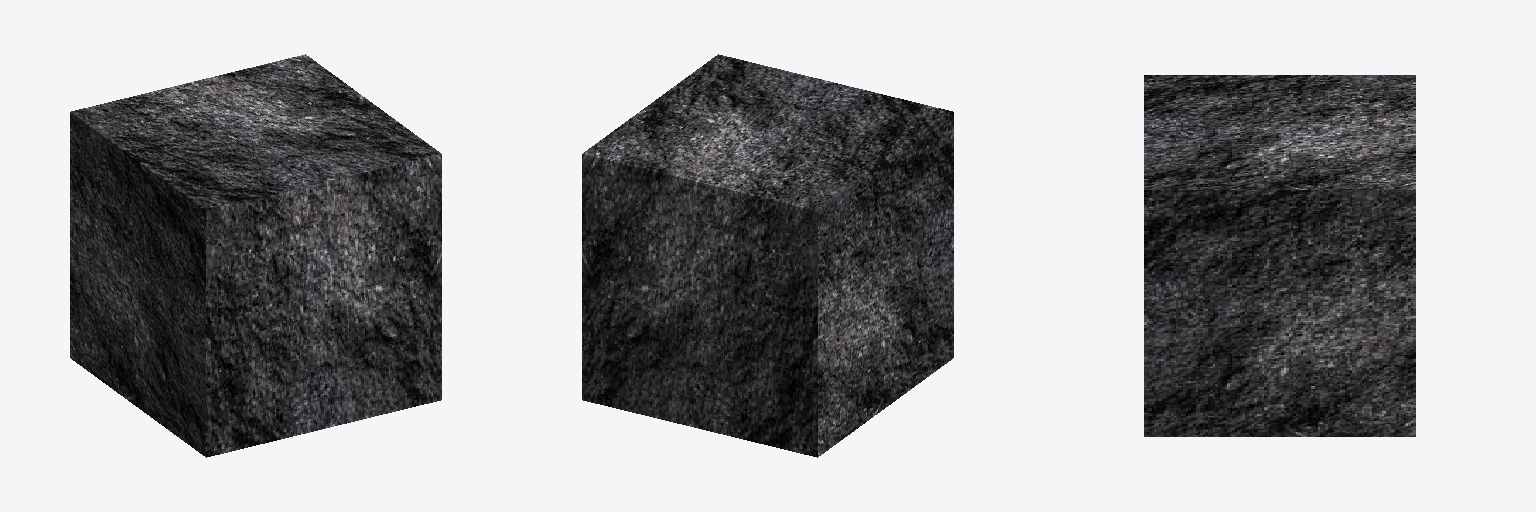
3 views of the same model, side by side, from view 1: azimuth 30°, elevation 25°; view 2: azimuth 150°, elevation 25°; view 3: azimuth 270°, elevation 25° (orthographic).
Parts seen in each view (by area): view 1: Tin; view 2: Tin; view 3: Tin.
Part boxes in pixels (x1,y1,x2,y2): Tin: (70, 54, 441, 457); Tin: (582, 54, 953, 457); Tin: (1144, 75, 1415, 436).
Bounding box in the file's own units: 2 × 2 × 2.
Materials: 1 (1 with a texture image).